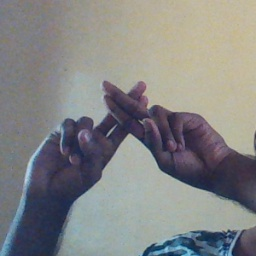F: (68, 73, 190, 171)
